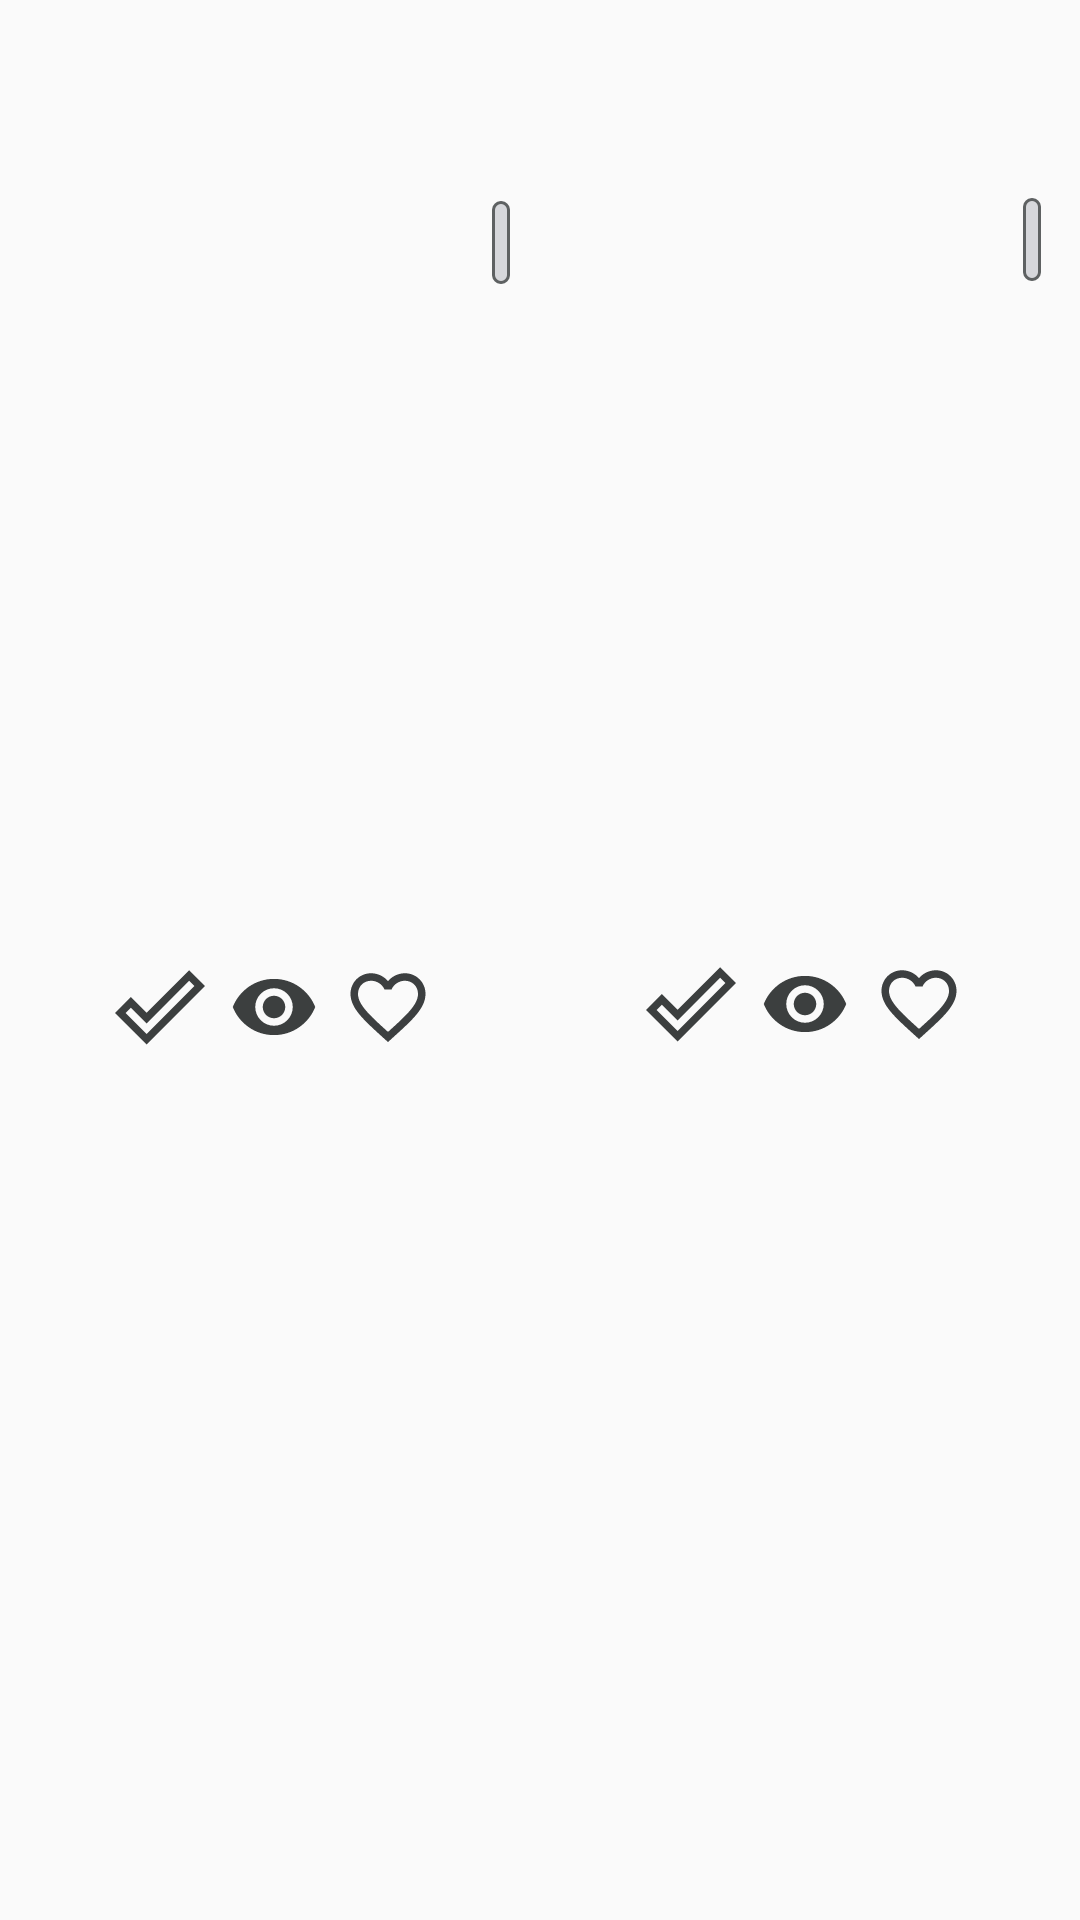

Where icons sit on this 1080×1920 app screen, as {"x1": x1, "y1": y1, "x2": x2, "y2": y2}:
done: {"x1": 646, "y1": 967, "x2": 736, "y2": 1042}, {"x1": 115, "y1": 970, "x2": 205, "y2": 1045}
favorite border: {"x1": 881, "y1": 970, "x2": 957, "y2": 1039}, {"x1": 350, "y1": 973, "x2": 426, "y2": 1042}
